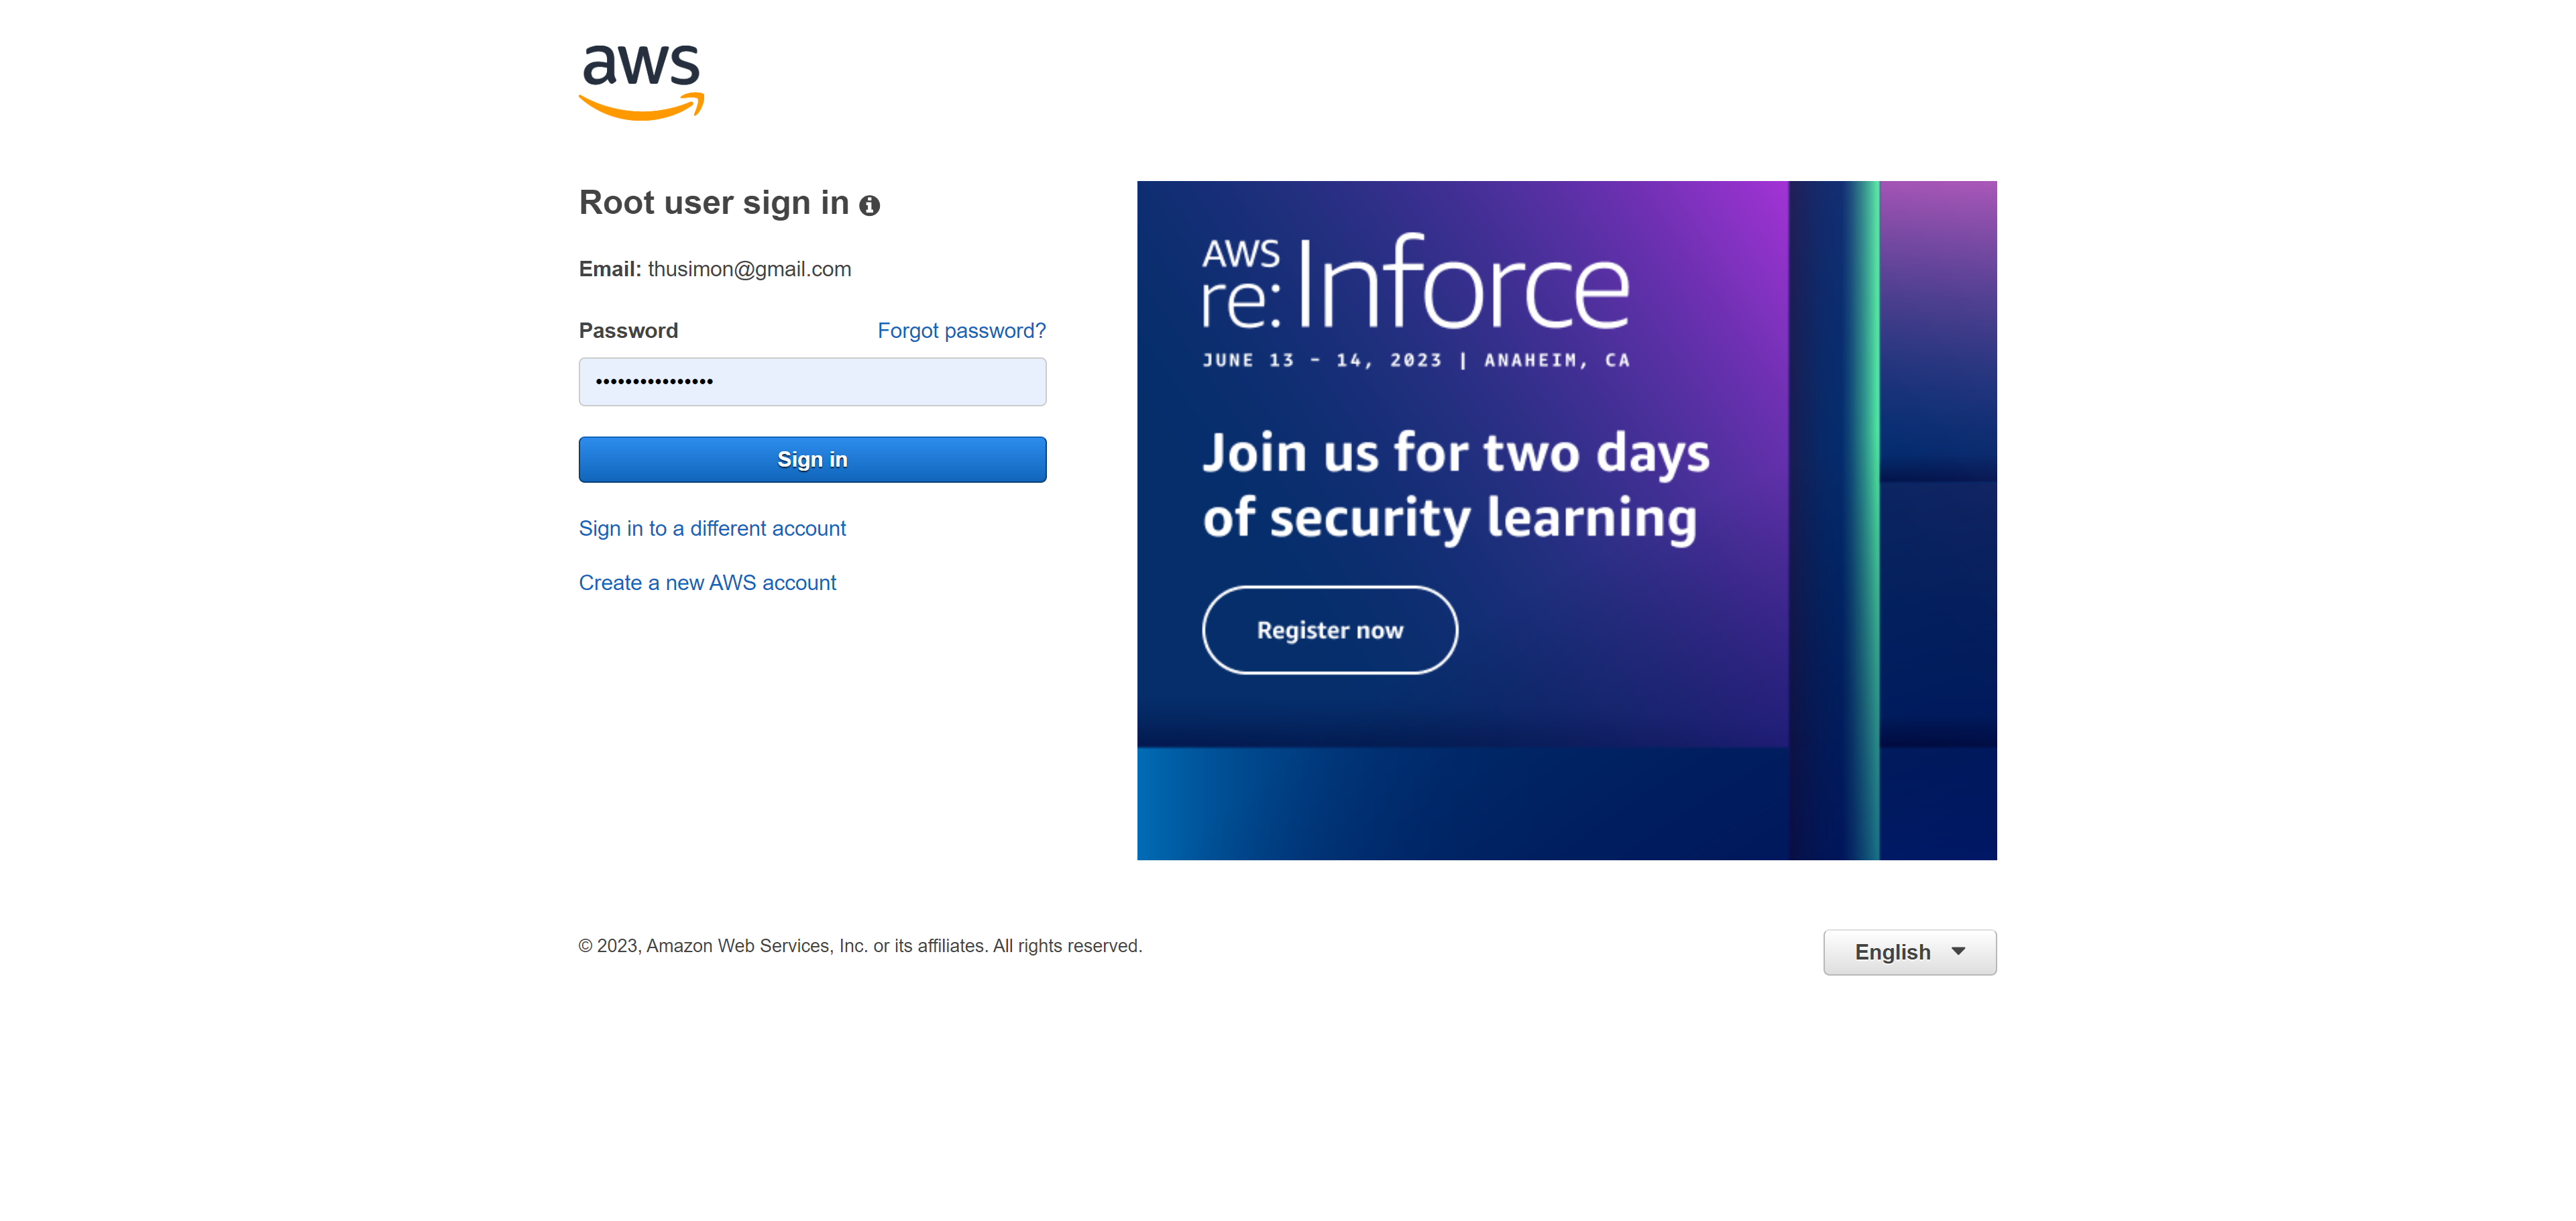login_button: (580, 435, 1046, 483)
login_form: (572, 316, 1053, 490)
